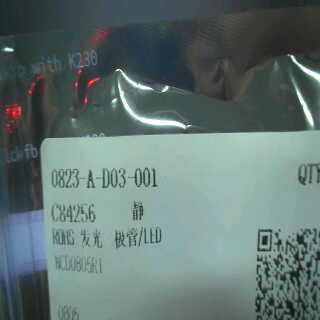LED: (78, 225, 164, 251)
